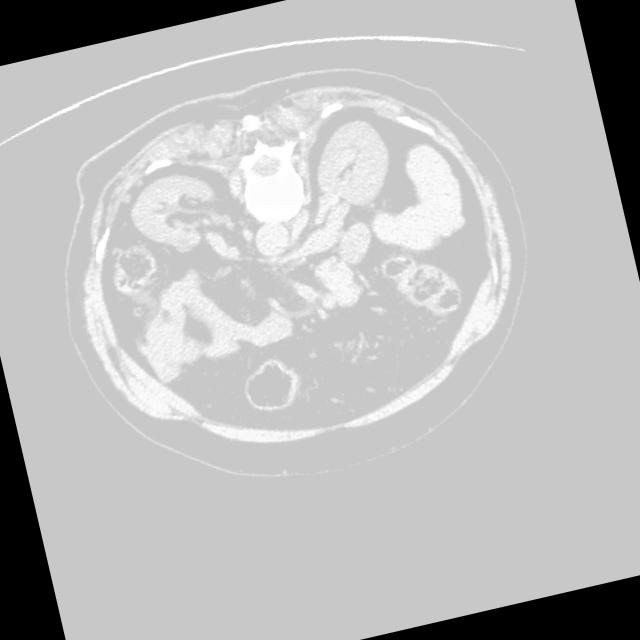cysts: (31, 34, 559, 512)
